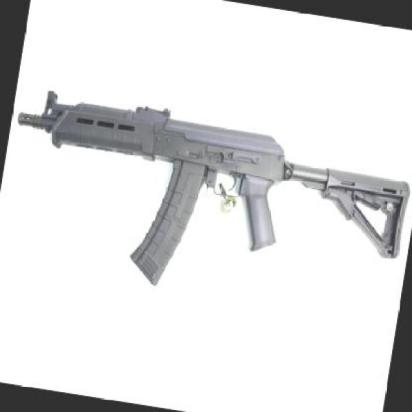Gun: (0, 71, 412, 327)
